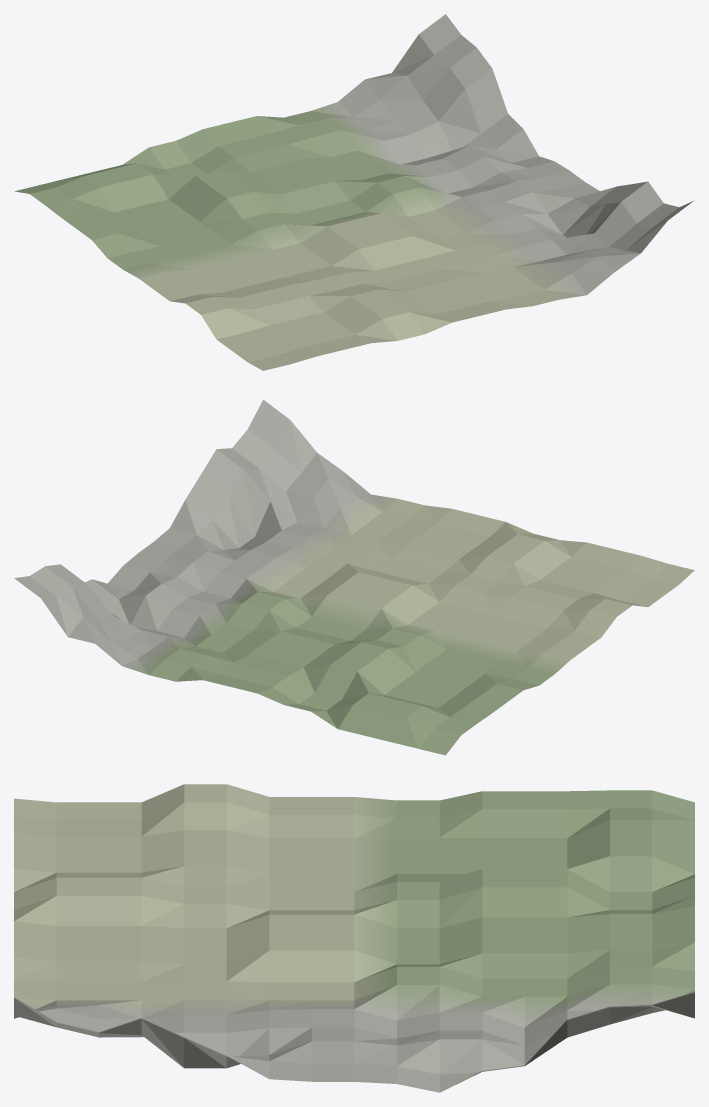
The picture shows the model from 3 angles, top to bottom: view 1: azimuth 30°, elevation 25°; view 2: azimuth 150°, elevation 25°; view 3: azimuth 270°, elevation 25°; orthographic projection. The views are drawn at different scales.
Size of the model in its own units: 32 by 5.83 by 32.
